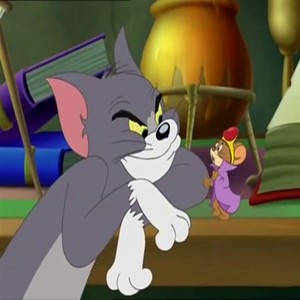Jerry: (202, 127, 246, 217)
